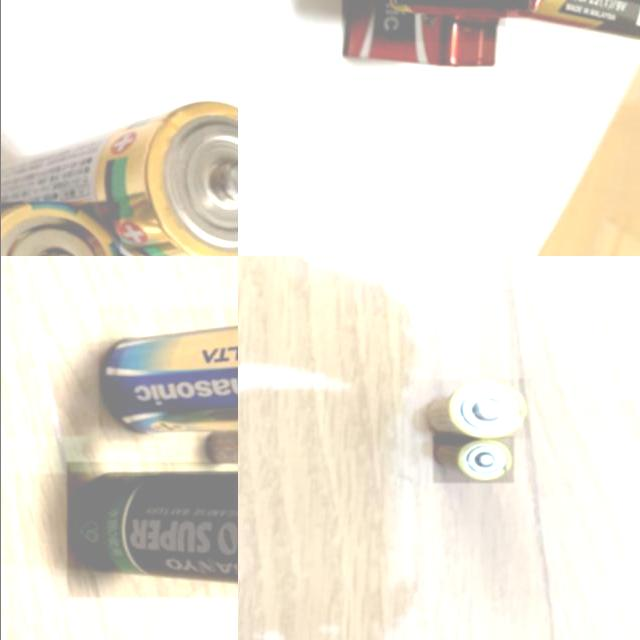9V: (341, 0, 505, 67), (388, 0, 640, 42)
